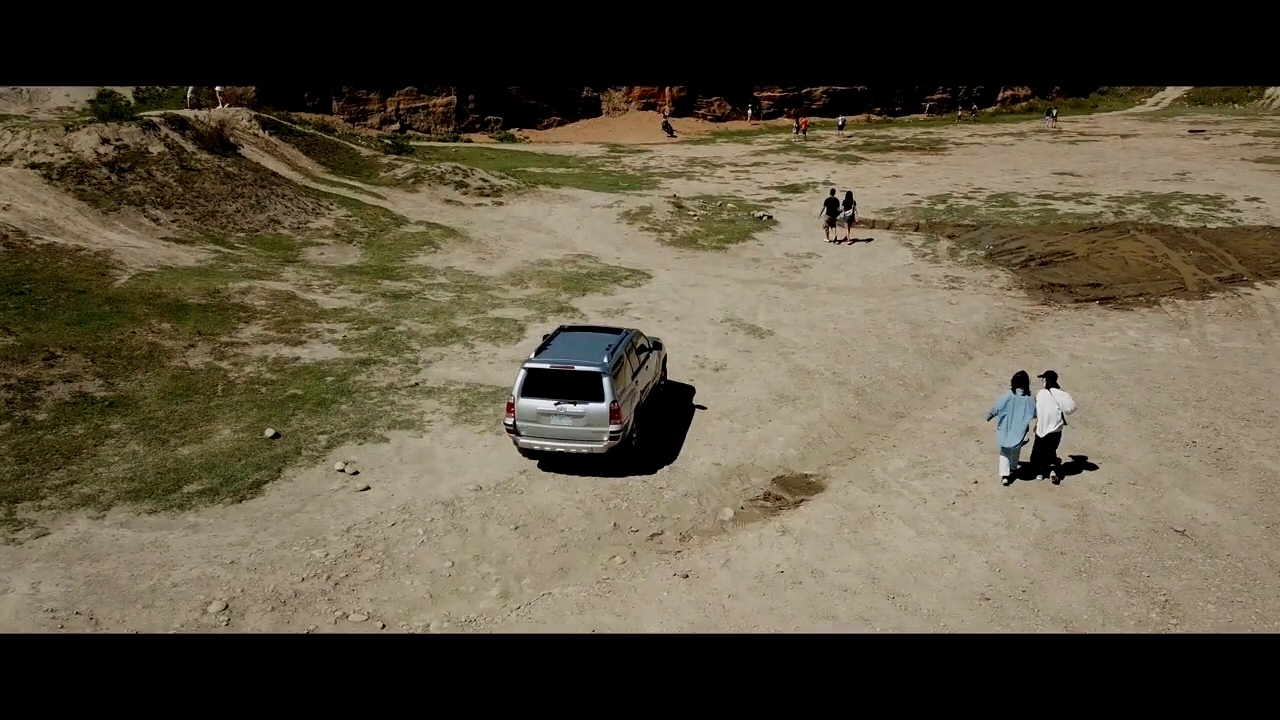araba: (506, 308, 670, 466)
insan: (987, 369, 1034, 484), (1039, 369, 1062, 484), (820, 182, 844, 246), (841, 182, 853, 248), (657, 105, 677, 140), (834, 110, 848, 141), (744, 99, 759, 127), (802, 114, 814, 139), (1051, 99, 1059, 131), (789, 117, 798, 144)
